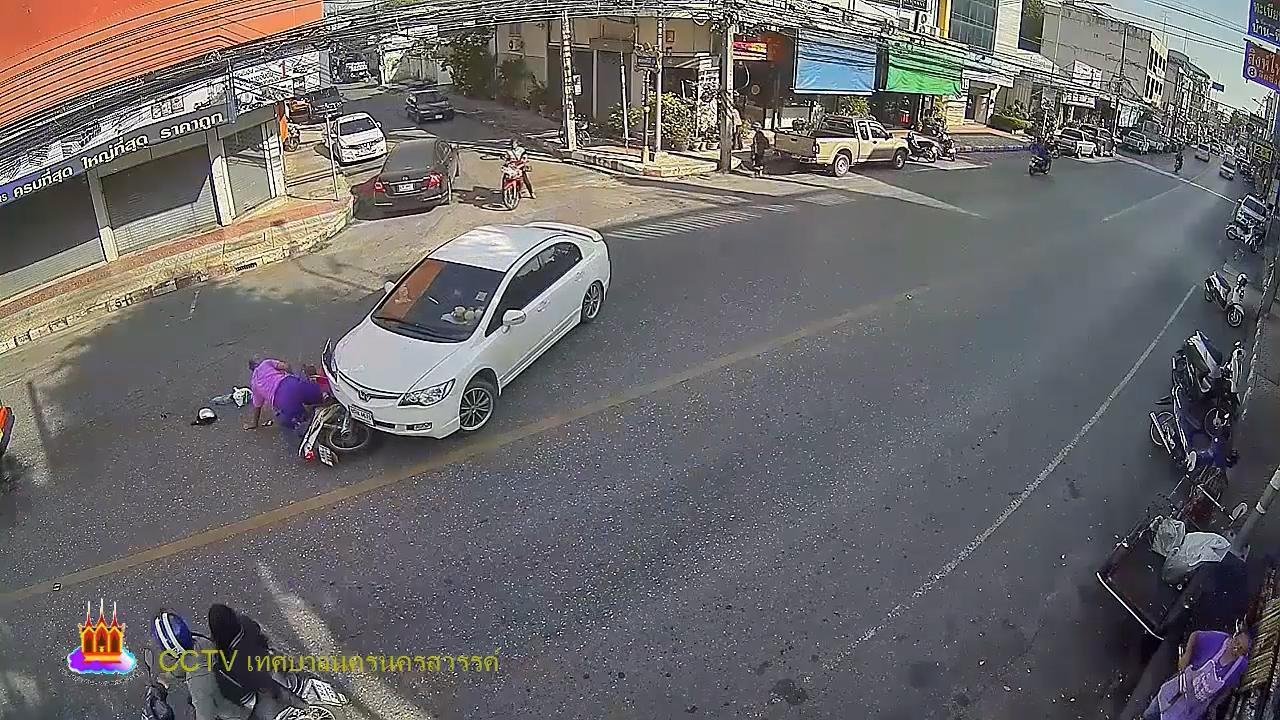accident: (243, 352, 332, 432)
